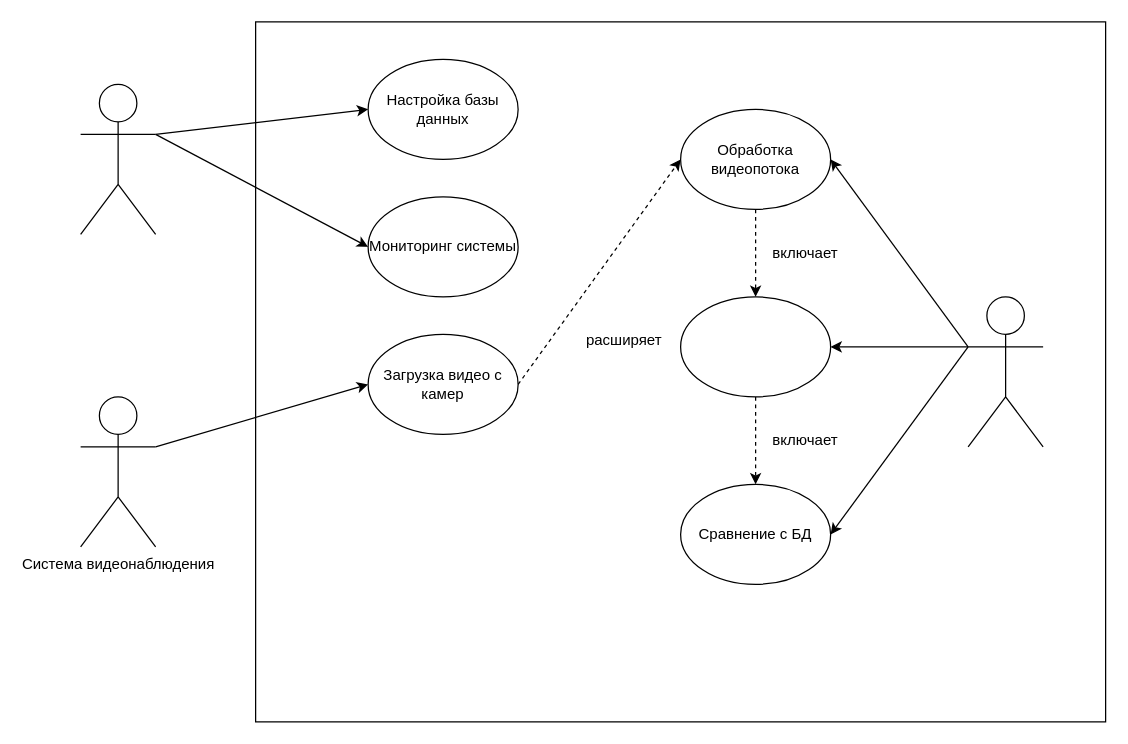
Some shapes in this 1128 by 744 pixel diagram are drawn without their labels. Here are the shapes that lost their labels. From the top down, the box of each, then its label:
(79, 83, 156, 234): Администратор
(679, 296, 831, 397): Идентификация
(967, 296, 1043, 447): Обрабатывающий сервер
